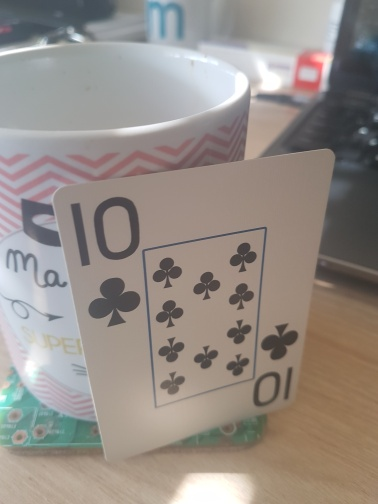ten: (55, 149, 337, 462)
